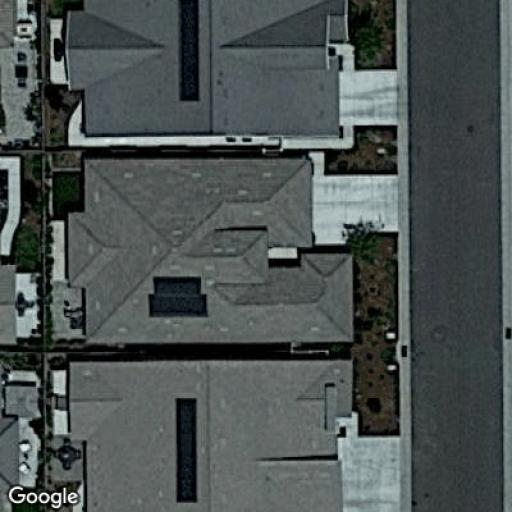solar-panel: (146, 274, 210, 320), (174, 396, 199, 504), (178, 0, 202, 103)
